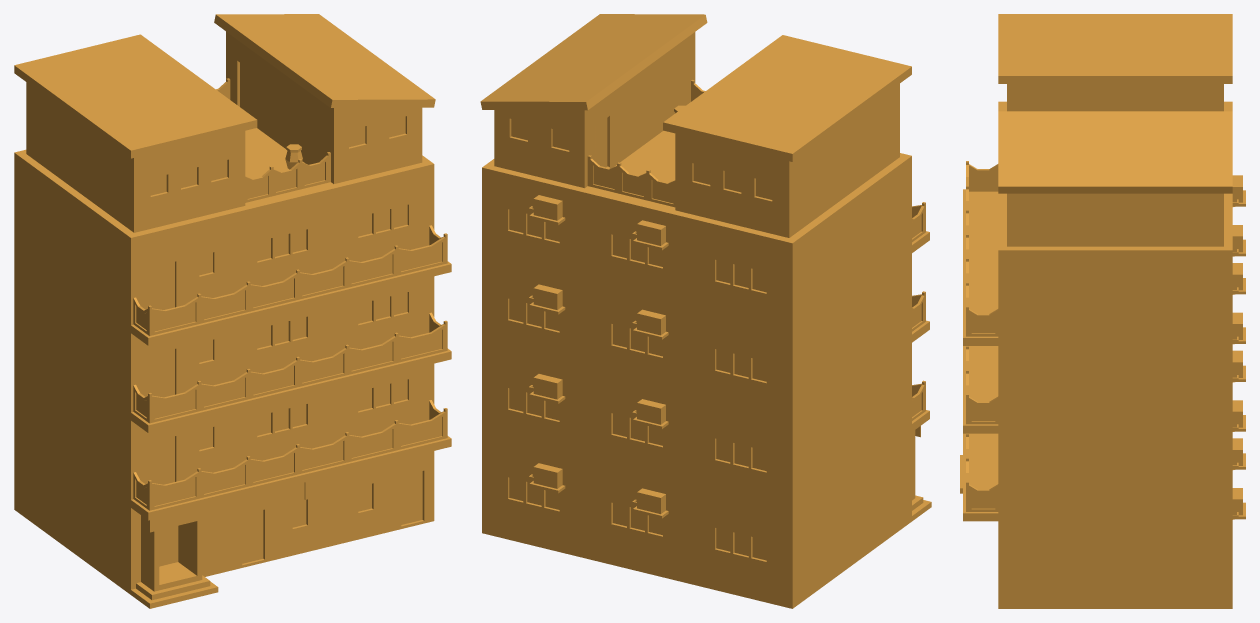
The model's file is india-building-street2-india.glb.
3 renders of one model, left to right at view 1: azimuth 30°, elevation 25°; view 2: azimuth 150°, elevation 25°; view 3: azimuth 270°, elevation 25°, orthographic. The views are drawn at different scales.
Parts seen in each view (by area): view 1: building-street2-india; view 2: building-street2-india; view 3: building-street2-india.
Part boxes in pixels (left/top/right/bottom): building-street2-india: left=14, top=14, right=451, bottom=608; building-street2-india: left=480, top=14, right=931, bottom=608; building-street2-india: left=960, top=14, right=1245, bottom=608.
Bounding box in the file's own units: 12.06 × 16.86 × 9.75.
